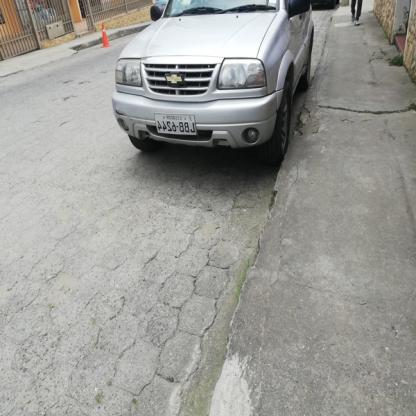Placa: (152, 111, 196, 142)
